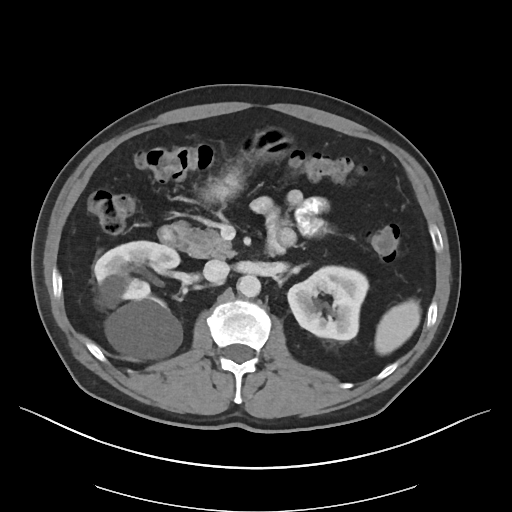Lesion: (101, 296, 188, 366)
